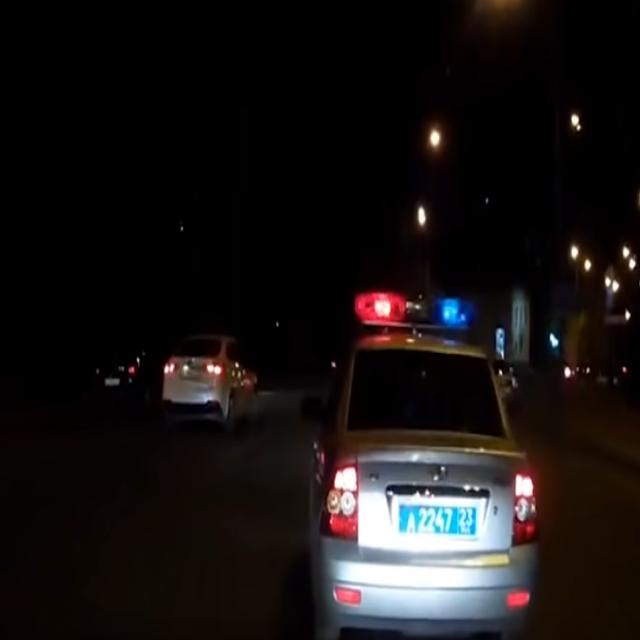non emergency car: (159, 335, 259, 434), (91, 337, 156, 417)
police car: (307, 291, 544, 627)
